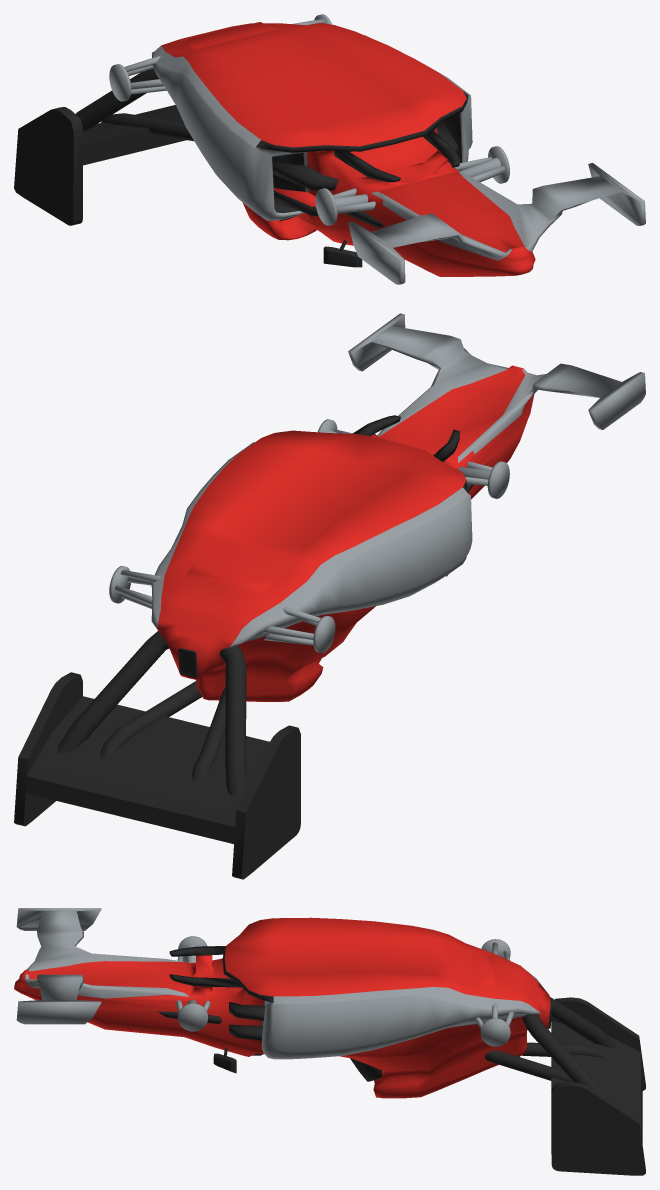
The model's file is Racecar_Chassis.fbx.
3 renders of one model, top to bottom at view 1: azimuth 30°, elevation 25°; view 2: azimuth 150°, elevation 25°; view 3: azimuth 270°, elevation 25°, orthographic. The views are drawn at different scales.
Parts seen in each view (by area): view 1: Car-7; view 2: Car-7; view 3: Car-7.
Part boxes in pixels (<box>): Car-7: <box>14,14,645,284</box>; Car-7: <box>14,313,645,879</box>; Car-7: <box>14,908,645,1175</box>.
Size of the model in its own units: 2.45 by 0.7575 by 0.8719.
